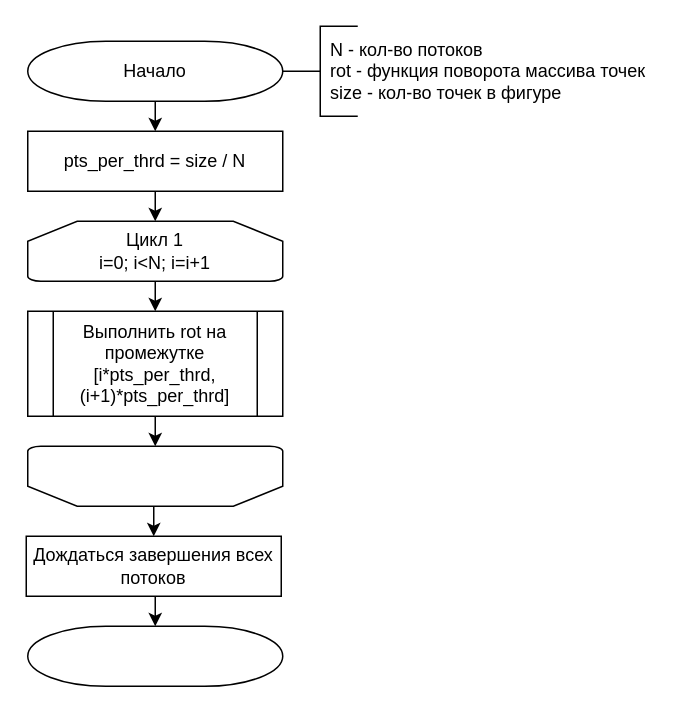
Image size: 699x713. Some labels were removed from this diagram. The shapes that lost their labels are listed below. From the top down, each one's centre as x and y in pixels, then its label:
point (154, 475): Конец цикла 1
point (154, 655): Конец
